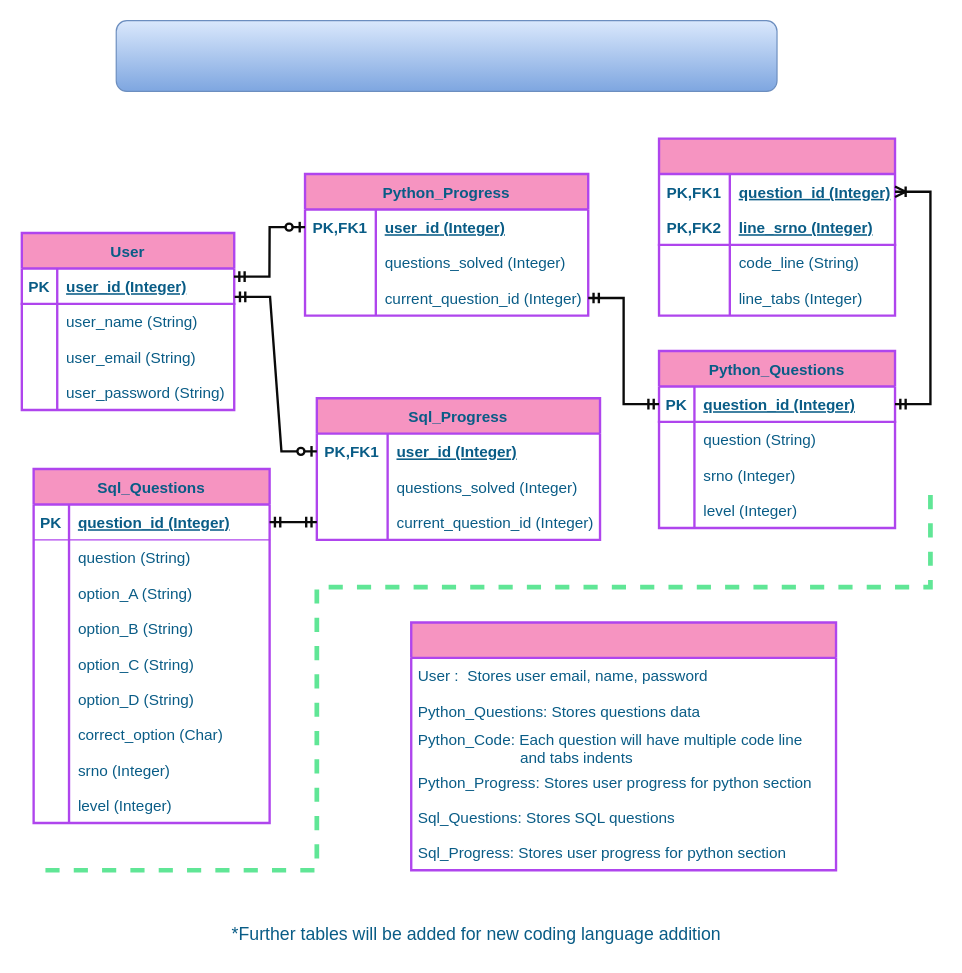
This 962x973 diagram has some shape labels left out. The box of each missing label's shape, as (x1, y1, x2, y2) in pixels:
Coding Puzzles App : Firebase Database Model: (115, 19, 777, 91)
Python_Code: (657, 137, 896, 316)
Table Description: (409, 621, 837, 871)
